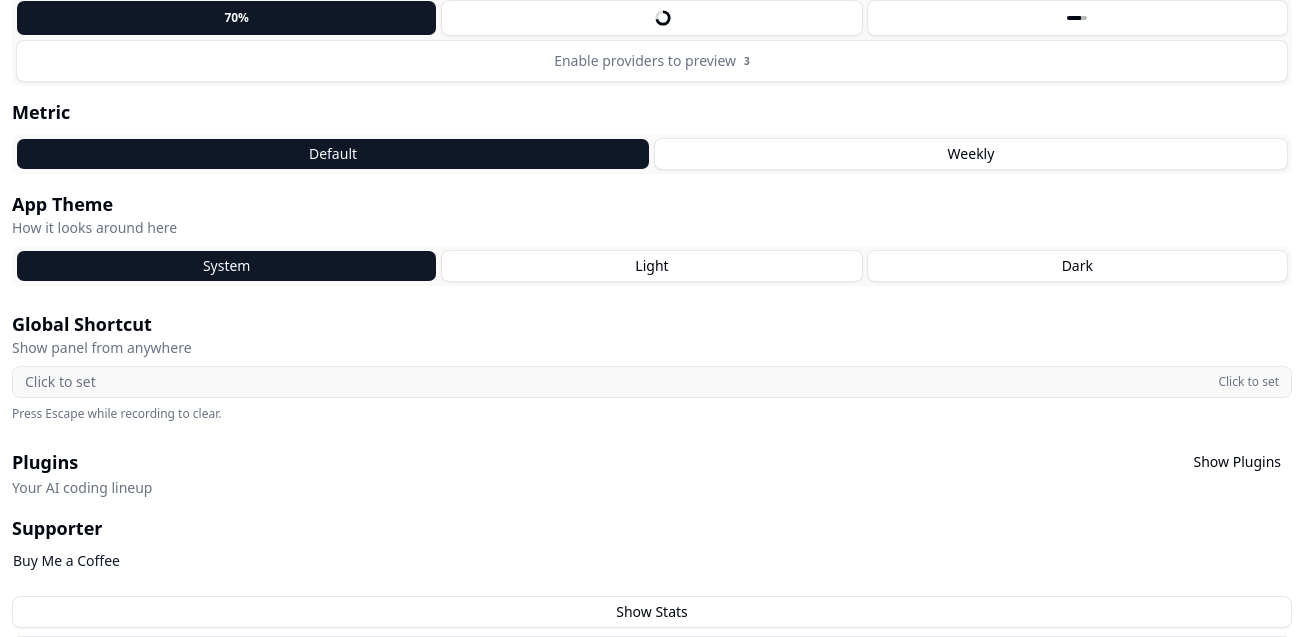
SettingsPage › keeps the plugin list closed until toggled open
(page scrolled)
Expected: the text "Alpha" is not shown
Click the button "Show Plugins".
click(1237, 462)  # box left=1182, top=446, right=1292, bottom=478
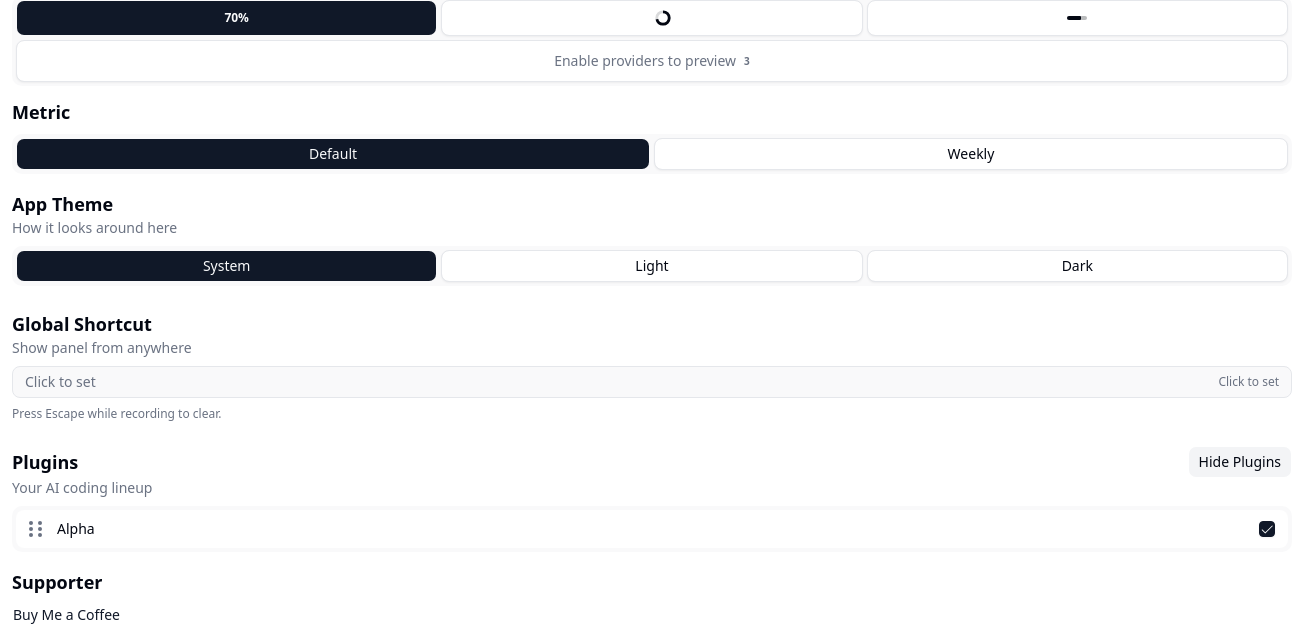
Expected: the button "Hide Plugins" is expanded
Expected: the text "Alpha" is shown, left=57, top=519, right=95, bottom=538
Click the button "Hide Plugins".
click(1240, 462)  # box left=1188, top=446, right=1292, bottom=478
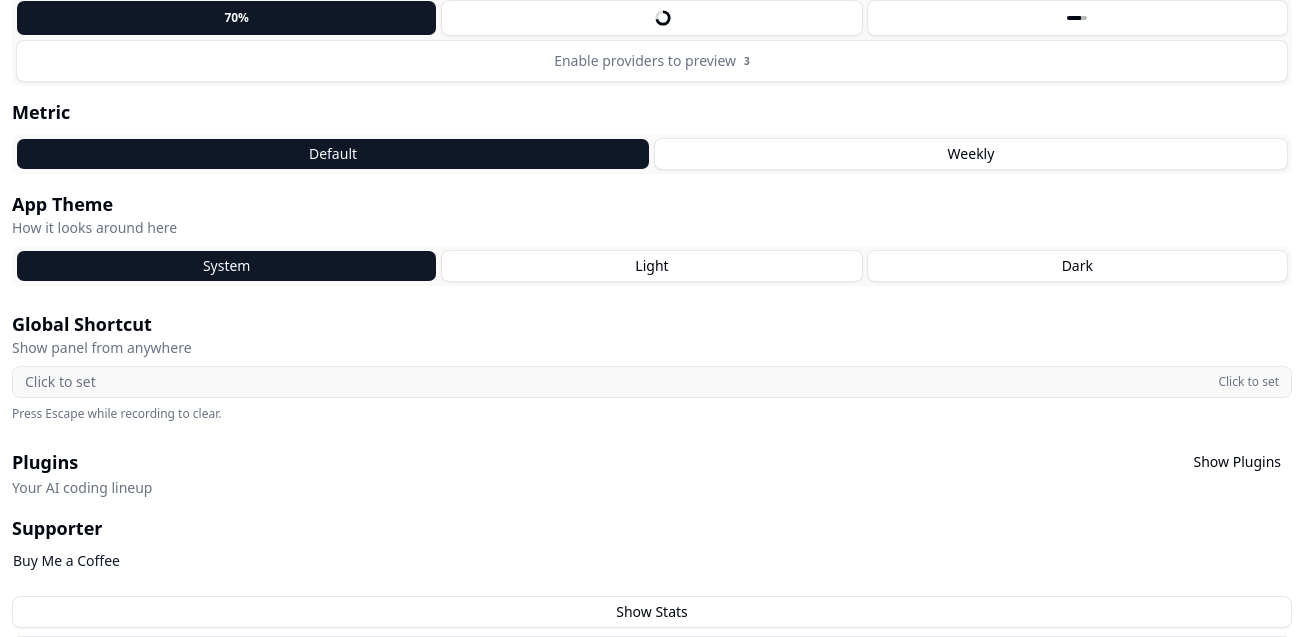
Expected: the button "Show Plugins" is collapsed, left=1182, top=446, right=1292, bottom=478
Expected: the text "Alpha" is gone
